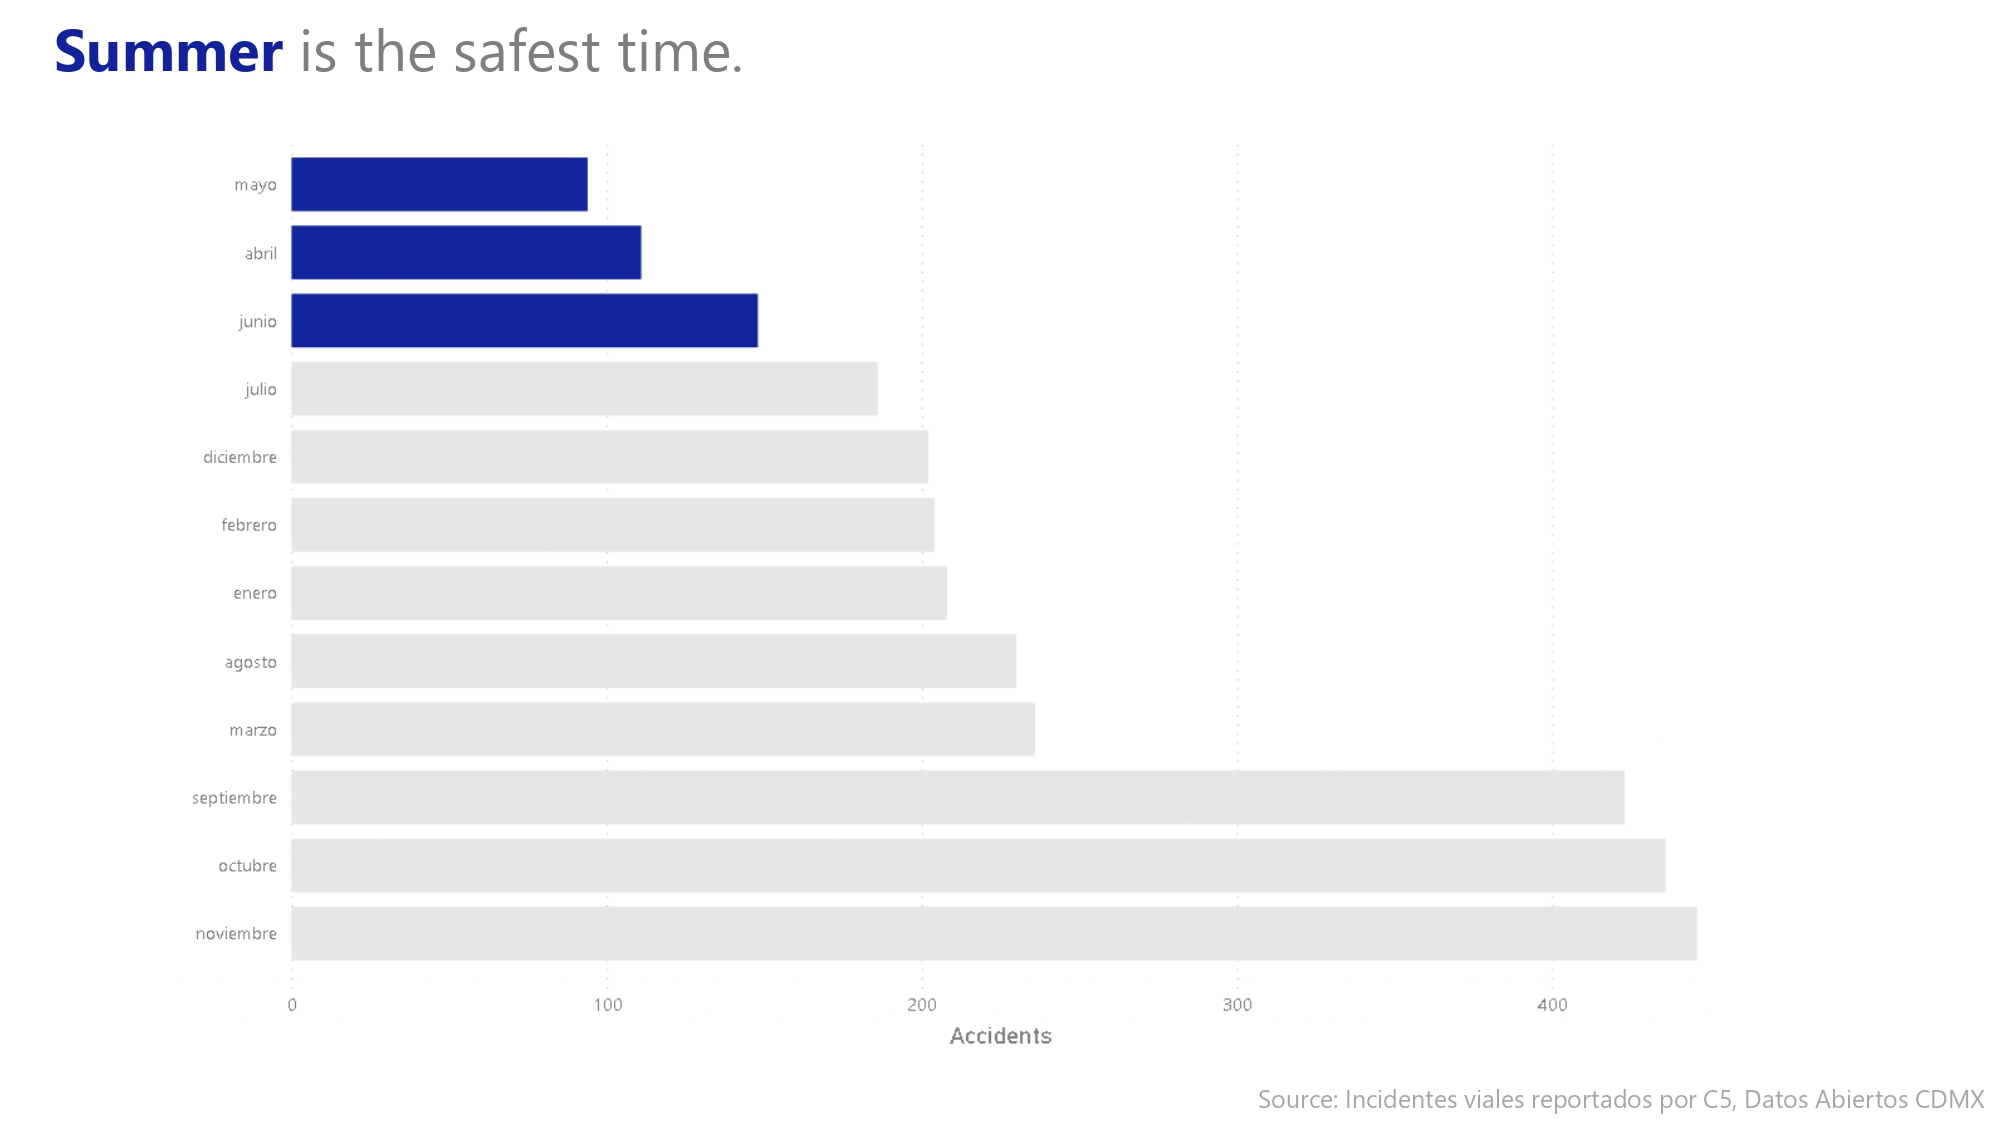

The page's visual inventory and layout, read from the dashboard file:
{"tool":"powerbi","page":{"name":"Accidentes por mes (English)","canvas":[1280,720],"ordinal":4},"visuals":[{"type":"barChart","fields":{"Y":["CountNonNull(incidentes_final.mes)"],"Category":["incidentes_final.mes"]},"box":[85.4,58.4,1055.5,626.2],"z":0}]}

Visuals, with their boxes in screenshot pixels (x1, y1, x2, y2), scaled from the page's 1280x720 canvas onto the 2000x1125 screenshot:
barChart - CountNonNull(incidentes_final.mes) x incidentes_final.mes: {"x1": 133, "y1": 91, "x2": 1783, "y2": 1070}
